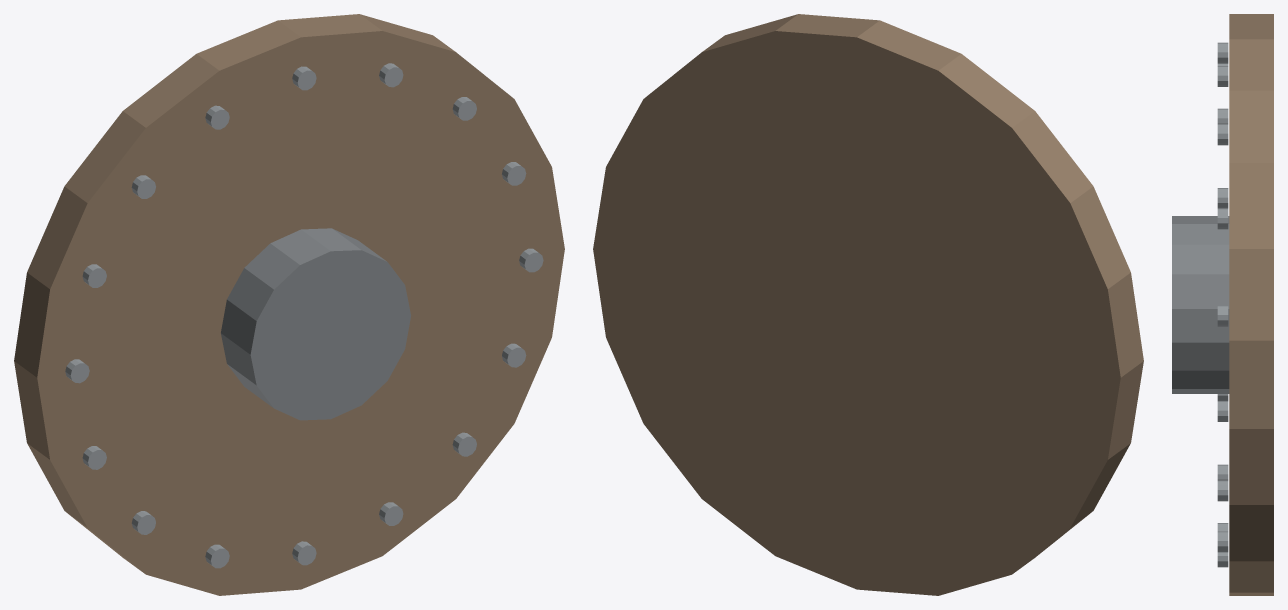
The model's file is SM_RoundShield.glb.
3 renders of one model, left to right at view 1: azimuth 30°, elevation 25°; view 2: azimuth 150°, elevation 25°; view 3: azimuth 270°, elevation 25°, orthographic. The views are drawn at different scales.
Visible parts, largest first — view 1: SM_RoundShield_001, SM_RoundShield_000; view 2: SM_RoundShield_001; view 3: SM_RoundShield_001, SM_RoundShield_000, SM_RoundShield_003, SM_RoundShield_004, SM_RoundShield_005, SM_RoundShield_007, SM_RoundShield_016, SM_RoundShield_017, SM_RoundShield_002, SM_RoundShield_006, SM_RoundShield_010, SM_RoundShield_013 (+2 smaller).
Part boxes in pixels (box(x1,y1,x2,y2)): SM_RoundShield_001: box(14, 14, 564, 595); SM_RoundShield_000: box(221, 228, 410, 420); SM_RoundShield_001: box(593, 14, 1143, 595); SM_RoundShield_001: box(1229, 14, 1273, 595); SM_RoundShield_000: box(1172, 216, 1229, 393); SM_RoundShield_003: box(1217, 305, 1228, 326); SM_RoundShield_004: box(1217, 208, 1228, 229); SM_RoundShield_005: box(1217, 124, 1228, 145); SM_RoundShield_007: box(1217, 42, 1228, 63); SM_RoundShield_016: box(1217, 531, 1228, 552); SM_RoundShield_017: box(1217, 480, 1228, 501); SM_RoundShield_002: box(1217, 401, 1228, 421); SM_RoundShield_006: box(1217, 66, 1228, 86); SM_RoundShield_010: box(1217, 188, 1228, 208); SM_RoundShield_013: box(1217, 464, 1228, 480).
Size of the model in its own units: 0.92 by 0.92 by 0.16.
